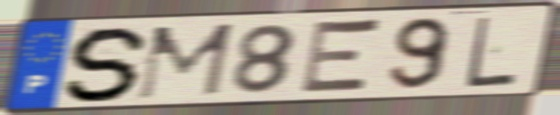8: (228, 22, 298, 96)
9: (387, 14, 454, 94)
E: (295, 17, 386, 97)
L: (463, 14, 520, 90)
M: (133, 21, 238, 103)
S: (60, 24, 155, 104)
